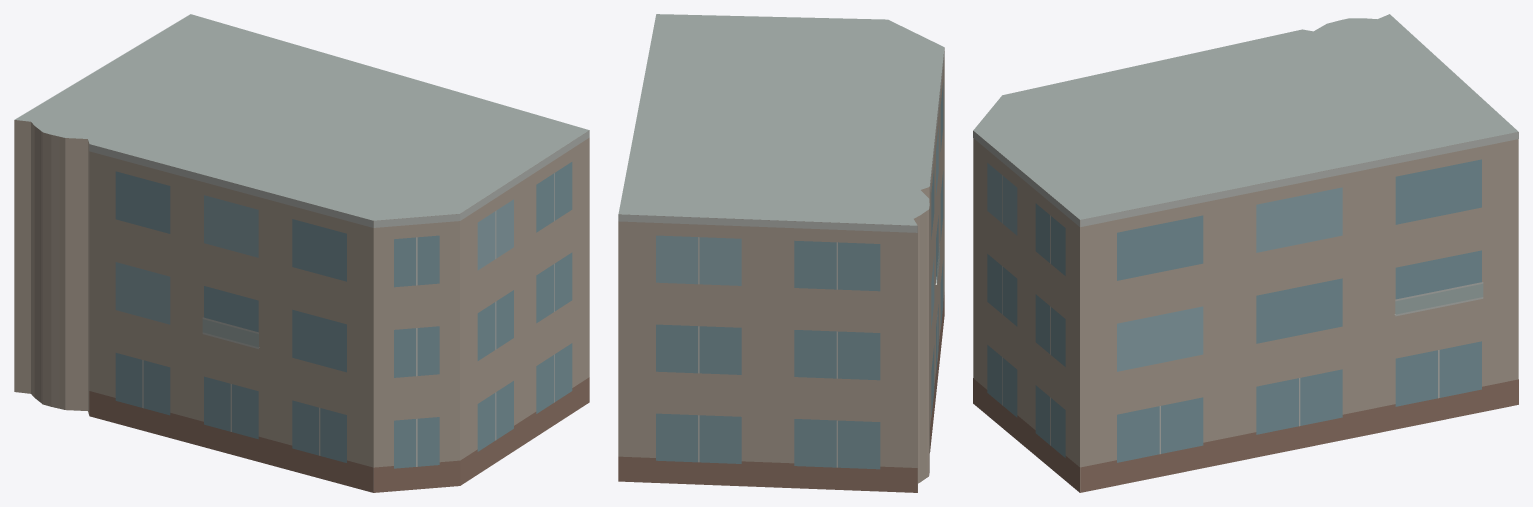
The model's file is survey-upis-33011479.glb.
The picture shows the model from 3 angles, left to right: view 1: azimuth 30°, elevation 25°; view 2: azimuth 150°, elevation 25°; view 3: azimuth 270°, elevation 25°; orthographic projection. The views are drawn at different scales.
Visible parts, largest first — view 1: survey-upis-33011479.tmp; view 2: survey-upis-33011479.tmp; view 3: survey-upis-33011479.tmp.
Boxes of the visible parts, x1,y1,x2,y2 form: survey-upis-33011479.tmp: (14,14,589,492); survey-upis-33011479.tmp: (618,14,944,492); survey-upis-33011479.tmp: (973,14,1518,492).
Size of the model in its own units: 14.82 by 9.15 by 16.59.
